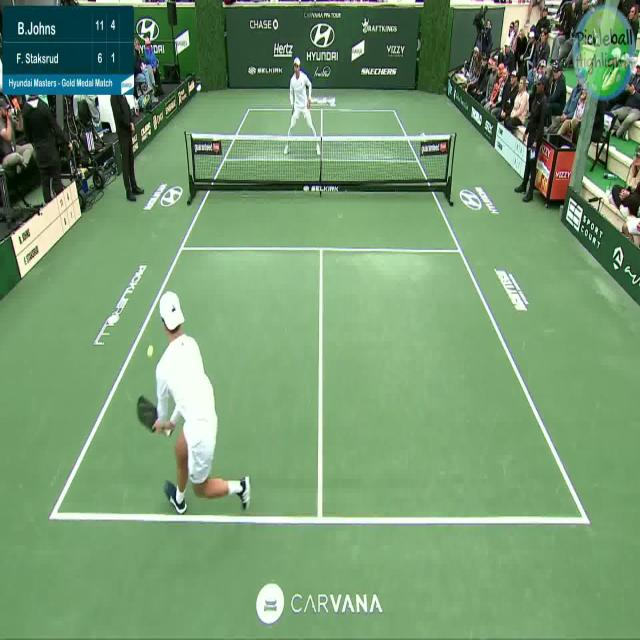ball: (145, 338, 155, 361)
